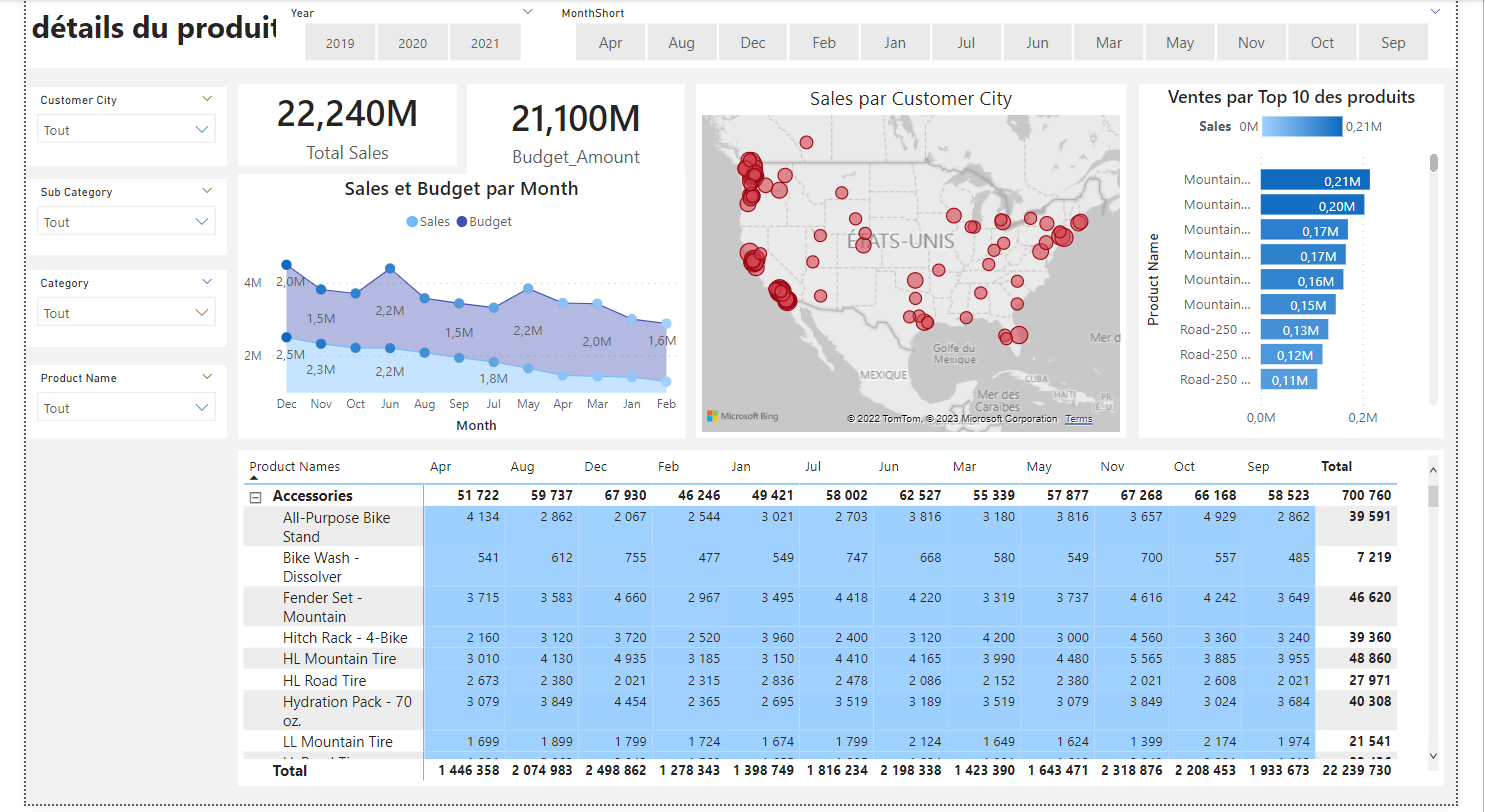

Layout of this report page (visuals, bound fields, positions):
{"tool":"powerbi","page":{"name":"détails du produit","canvas":[1280,720],"ordinal":2},"visuals":[{"type":"textbox","box":[0,0,1280,61.1],"z":0},{"type":"slicer","fields":{"Values":["DIM_Customer.Customer City"]},"box":[0,77.8,179.6,70.6],"z":1000},{"type":"slicer","fields":{"Values":["DIM_Products.Sub Category"]},"box":[0,160.4,179.6,68.3],"z":2000},{"type":"slicer","fields":{"Values":["DIM_Products.Product Category"]},"box":[0,241.9,179.6,69.4],"z":3000},{"type":"slicer","fields":{"Values":["DIM_Products.Product Name"]},"box":[0,326.9,179.6,65.9],"z":4000},{"type":"slicer","fields":{"Values":["Dim_Date_Excel.Year"]},"box":[223.9,0,243.1,61.1],"z":5000},{"type":"slicer","fields":{"Values":["Dim_Date_Excel.MonthShort"]},"box":[467,0,813,61.1],"z":6000},{"type":"barChart","title":"Ventes par Top 10 des produits","fields":{"Y":["Key Measures.Sales"],"Category":["DIM_Products.Product Name"]},"box":[996.6,74.9,272.9,317.4],"z":7000},{"type":"pivotTable","fields":{"Values":["Key Measures.Sales"],"Columns":["Dim_Date_Excel.MonthShort"],"Rows":["DIM_Products.Product Category","DIM_Products.Product Name"]},"box":[189.7,402.9,1079.7,301],"z":8000},{"type":"card","title":"Total Sales","fields":{"Values":["Key Measures.Sales"]},"box":[189.7,74.9,195.6,72.6],"z":9000},{"type":"card","title":"Total Sales","fields":{"Values":["Key Measures.Budget_Amount"]},"box":[394.9,75.2,195.2,80.6],"z":10000},{"type":"stackedAreaChart","fields":{"Category":["Dim_Date_Excel.MonthShort"],"Y":["Key Measures.Sales","Key Measures.Budget_Amount"]},"box":[189.7,155.8,400.5,236.6],"z":11000},{"type":"map","fields":{"Category":["DIM_Customer.Customer City"],"Size":["Key Measures.Sales"]},"box":[599.6,74.9,385.3,317.4],"z":12000}]}

Visuals, with their boxes in screenshot pixels (x1, y1, x2, y2), scaled from the page's 1280x720 canvas onto the 1485x812 screenshot:
textbox: bbox(0, 0, 1484, 69)
slicer - DIM_Customer.Customer City: bbox(0, 88, 208, 167)
slicer - DIM_Products.Sub Category: bbox(0, 181, 208, 258)
slicer - DIM_Products.Product Category: bbox(0, 273, 208, 351)
slicer - DIM_Products.Product Name: bbox(0, 369, 208, 443)
slicer - Dim_Date_Excel.Year: bbox(260, 0, 542, 69)
slicer - Dim_Date_Excel.MonthShort: bbox(542, 0, 1484, 69)
"Ventes par Top 10 des produits" barChart: bbox(1156, 84, 1473, 442)
pivotTable - Key Measures.Sales x Dim_Date_Excel.MonthShort: bbox(220, 454, 1473, 794)
"Total Sales" card: bbox(220, 84, 447, 166)
"Total Sales" card: bbox(458, 85, 685, 176)
stackedAreaChart - Dim_Date_Excel.MonthShort x Key Measures.Sales: bbox(220, 176, 685, 443)
map - DIM_Customer.Customer City x Key Measures.Sales: bbox(696, 84, 1143, 442)
